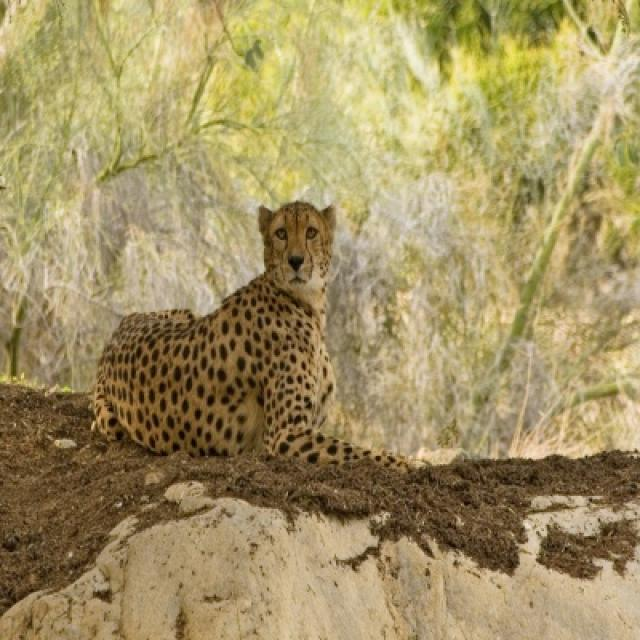Cheetah: (91, 202, 334, 464)
